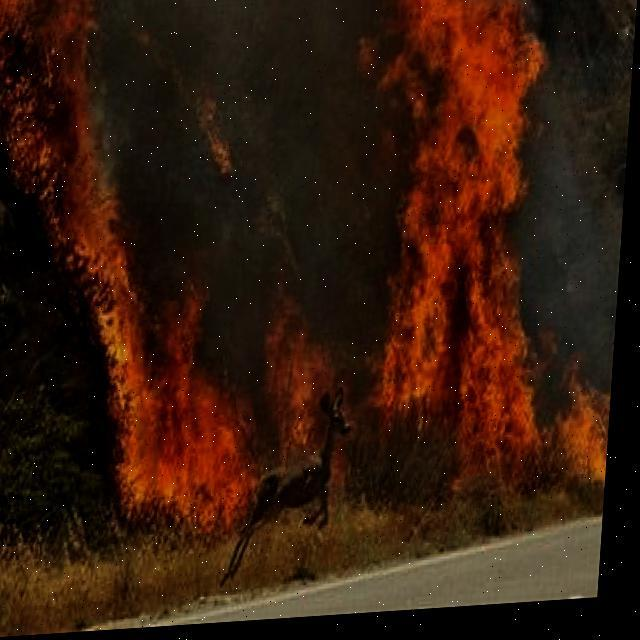Fire: (356, 0, 638, 502)
